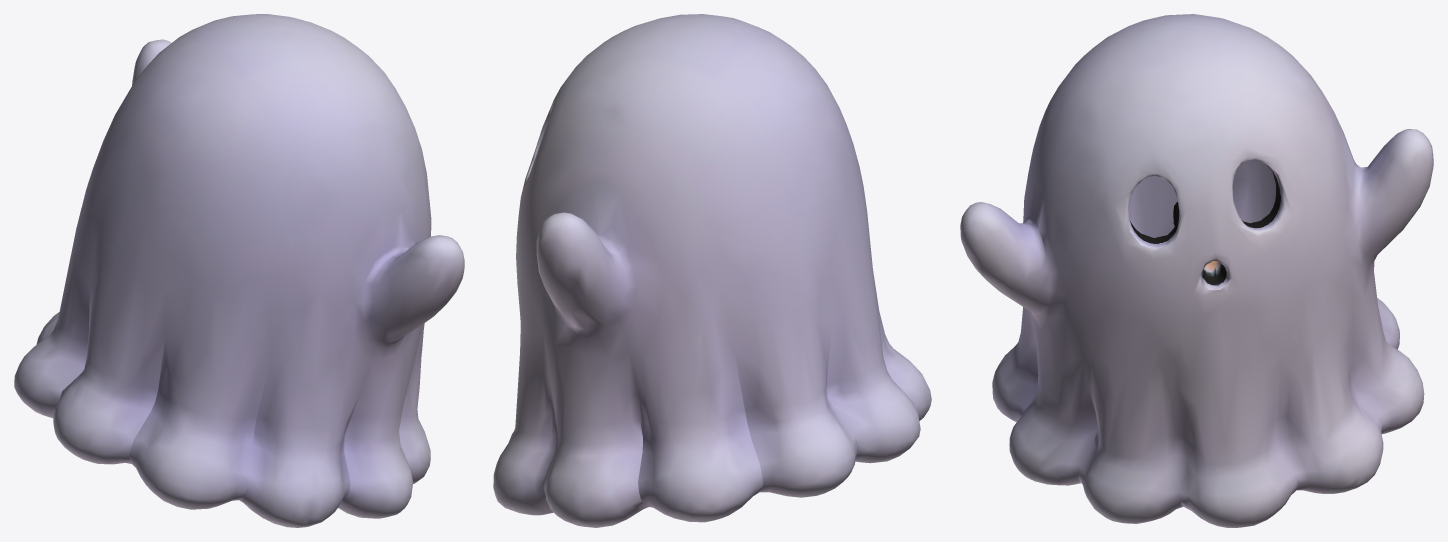
File: E6_Boo_LOD0.fbx
3 views of the same model, side by side, from view 1: azimuth 30°, elevation 25°; view 2: azimuth 150°, elevation 25°; view 3: azimuth 270°, elevation 25° (orthographic). The views are drawn at different scales.
Visible parts, largest first — view 1: E6_Boo_LOD0; view 2: E6_Boo_LOD0; view 3: E6_Boo_LOD0.
Boxes of the visible parts, x1=… form: E6_Boo_LOD0: x1=14, y1=14, x2=464, y2=527; E6_Boo_LOD0: x1=493, y1=14, x2=931, y2=527; E6_Boo_LOD0: x1=960, y1=14, x2=1433, y2=527.
Size of the model in its own units: 0.1648 by 0.2001 by 0.1945.
Materials: 1 (1 with a texture image).
